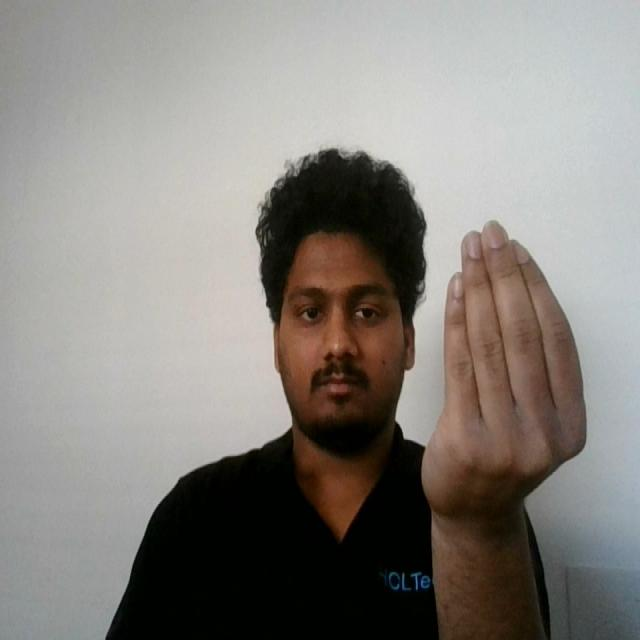Please: (413, 210, 599, 530)
